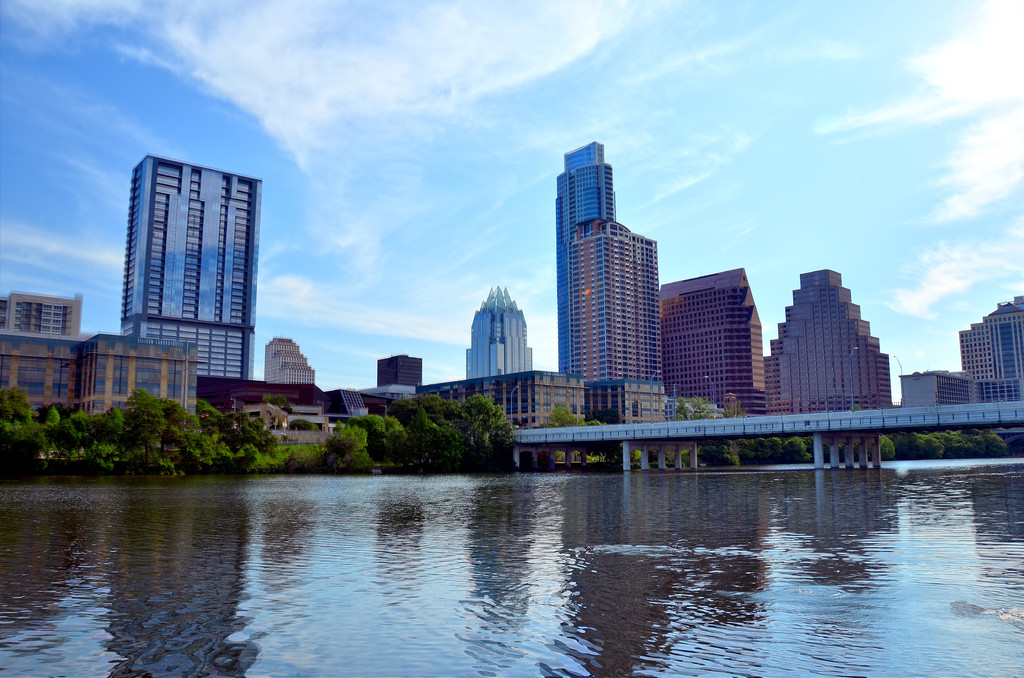Tree: (0, 385, 281, 466), (442, 386, 510, 474), (124, 390, 170, 455), (544, 400, 586, 465), (156, 403, 194, 465), (0, 396, 32, 462), (677, 399, 707, 466), (480, 411, 509, 474), (220, 409, 254, 458), (405, 404, 430, 465), (360, 409, 389, 458), (378, 408, 401, 465), (103, 400, 121, 468), (37, 412, 64, 457), (429, 409, 450, 462), (768, 430, 805, 460), (74, 408, 96, 458), (332, 425, 361, 462), (202, 400, 220, 458), (987, 428, 1010, 457), (901, 434, 930, 455), (947, 432, 970, 455), (928, 432, 952, 452), (731, 389, 737, 450), (970, 430, 984, 453), (746, 440, 769, 453), (886, 435, 899, 458)
